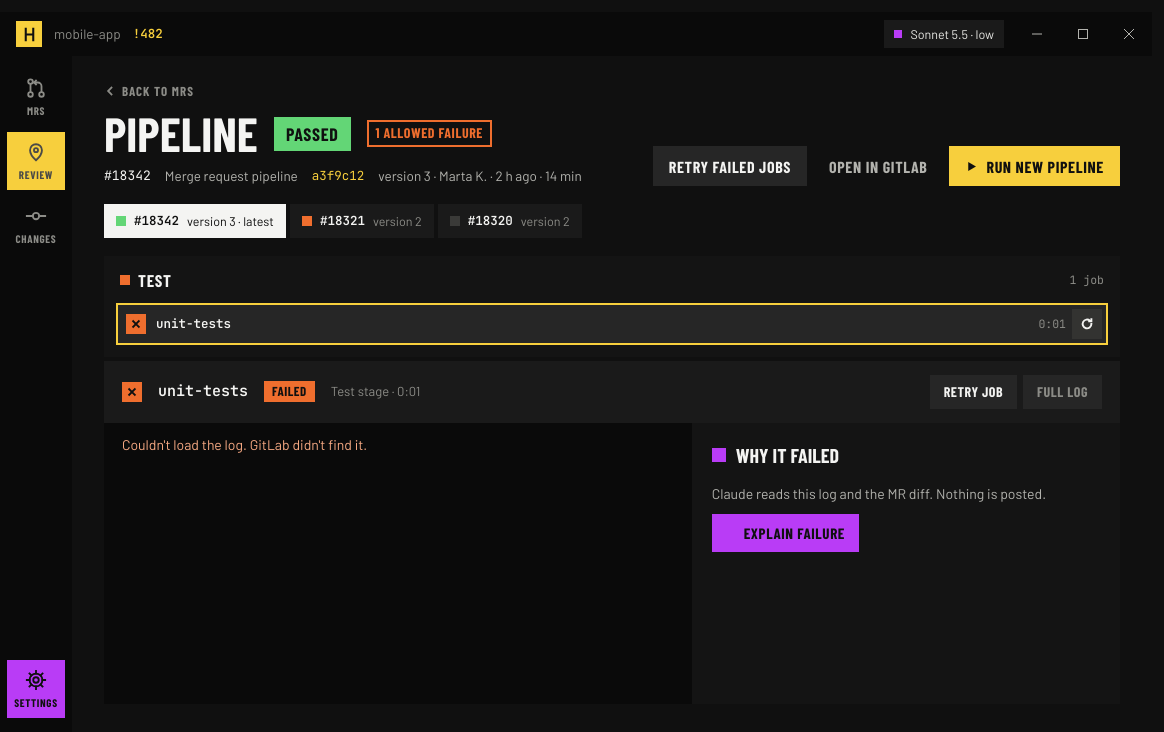
S-08 Explain failure states (F-20.7) › F-20.7 a failed run says Couldn't explain this failure. with the reason, and Retry names why it is disabled
The width and height of the screenshot is (1164, 732).
Step 1. Click the button "Explain failure" → (785, 533), box left=712, top=514, right=859, bottom=552
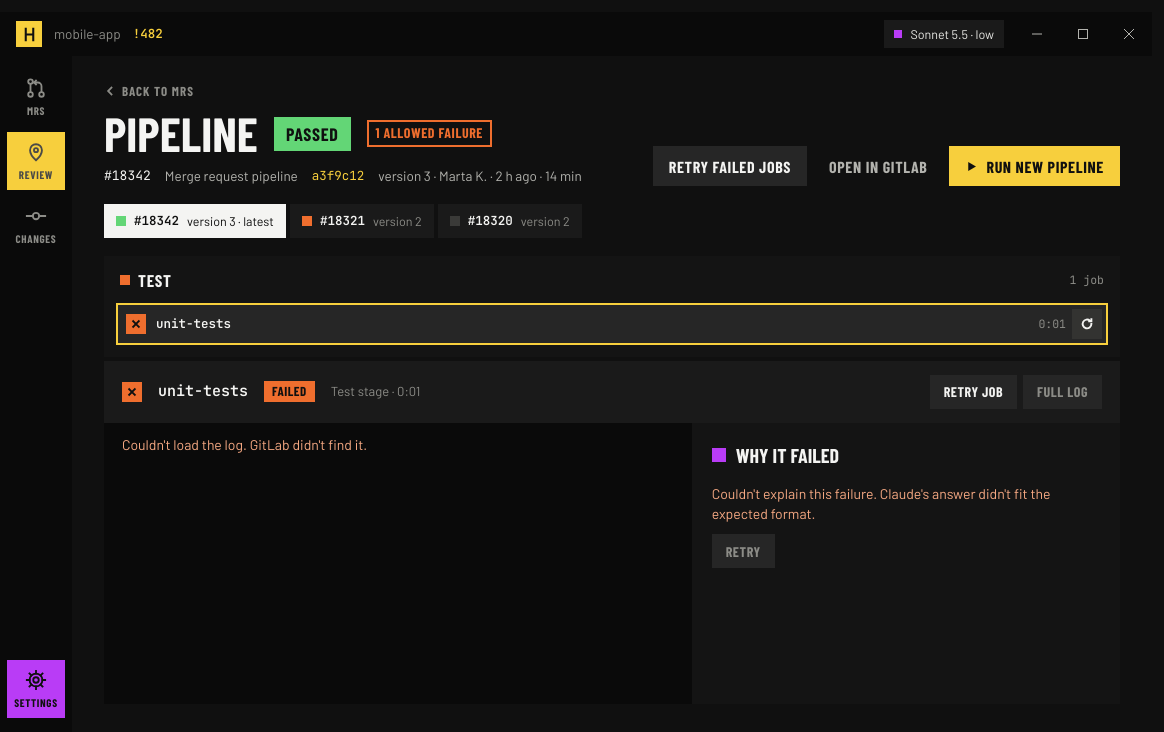
Check: the message "Couldn't explain this failure. Claude's answer didn't fit the expected format." is shown, box left=712, top=484, right=1100, bottom=524
Check: the button "Retry" is disabled, box left=712, top=534, right=775, bottom=568
